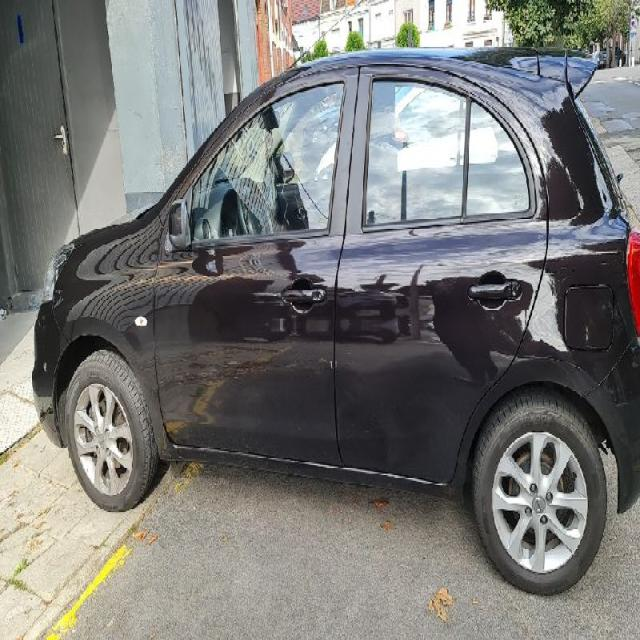porte-avant: (151, 68, 361, 474)
